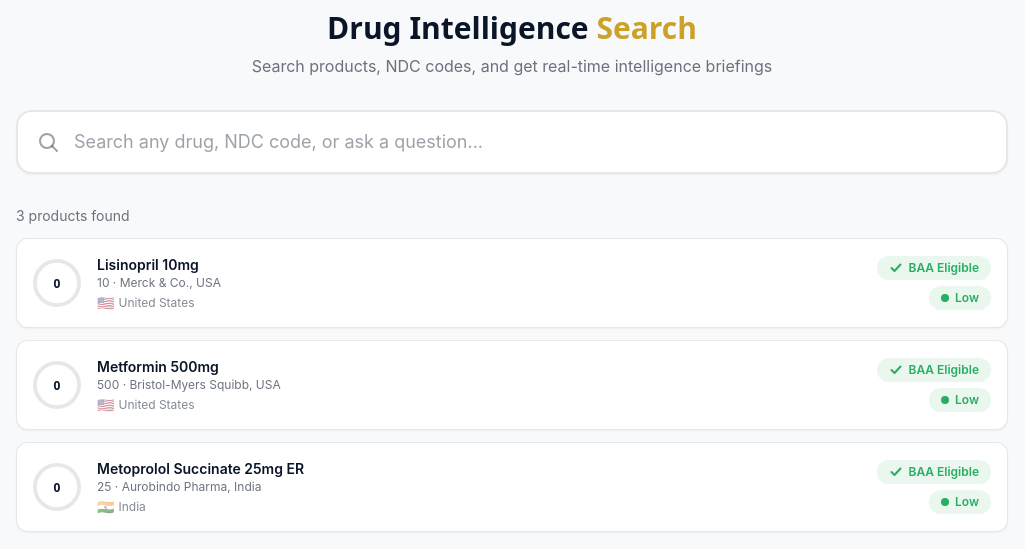
Test case: SearchHub › shows no-results message when no products match
Type "zzzznonexistent" into the field with test id "search-input". click: {"x": 512, "y": 142}
box: [16,110,1008,174]
Wait 350 ms
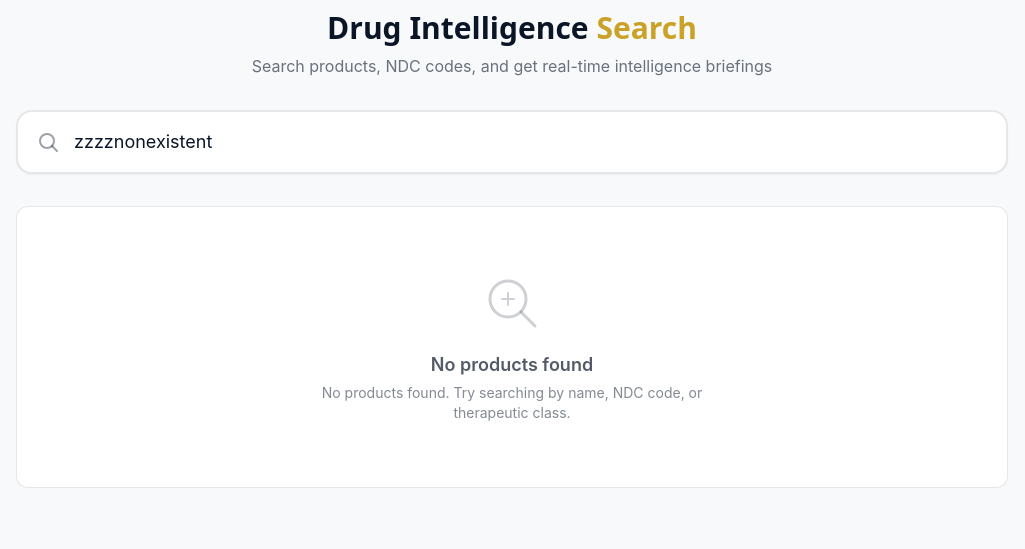
Now the element with test id "no-results" is shown, box [16,206,1008,488]
Now the text "No products found. Try searching by name, NDC code, or therapeutic class." is shown, box [322,384,702,421]
